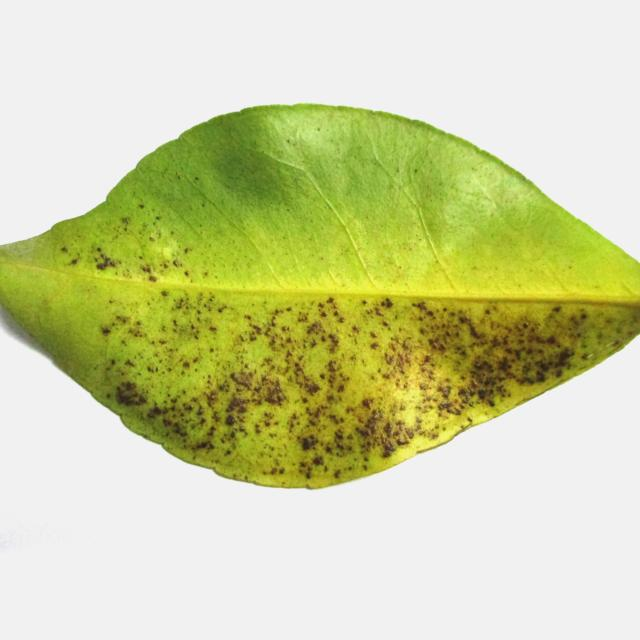melanose: (0, 104, 640, 488)
